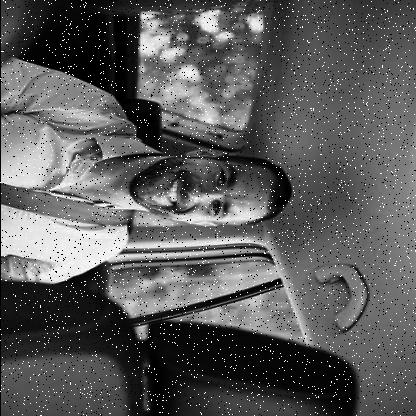seatbelt: (0, 132, 301, 255)
